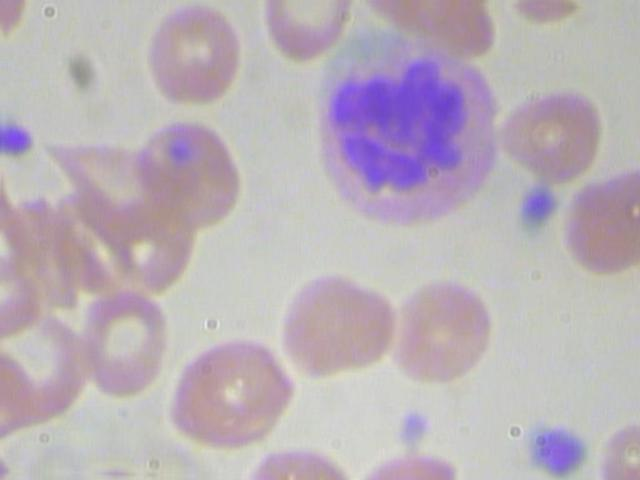Platelets: (565, 167, 640, 283), (522, 416, 592, 479), (515, 179, 562, 234), (395, 410, 435, 452)
RBC: (165, 330, 302, 451), (384, 271, 503, 391), (278, 268, 397, 388), (128, 114, 246, 233), (131, 0, 249, 114), (491, 82, 606, 182), (76, 283, 173, 398), (259, 0, 353, 68), (0, 111, 3, 160)
WBC: (2, 112, 34, 160)
